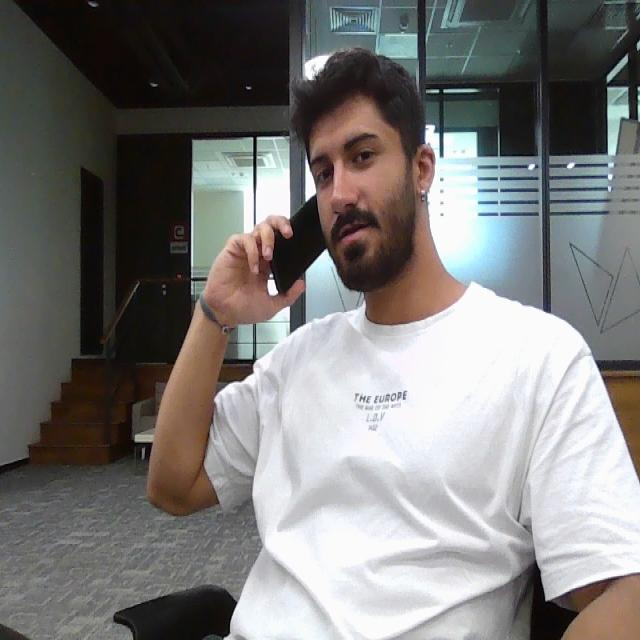phone: (269, 191, 329, 300)
